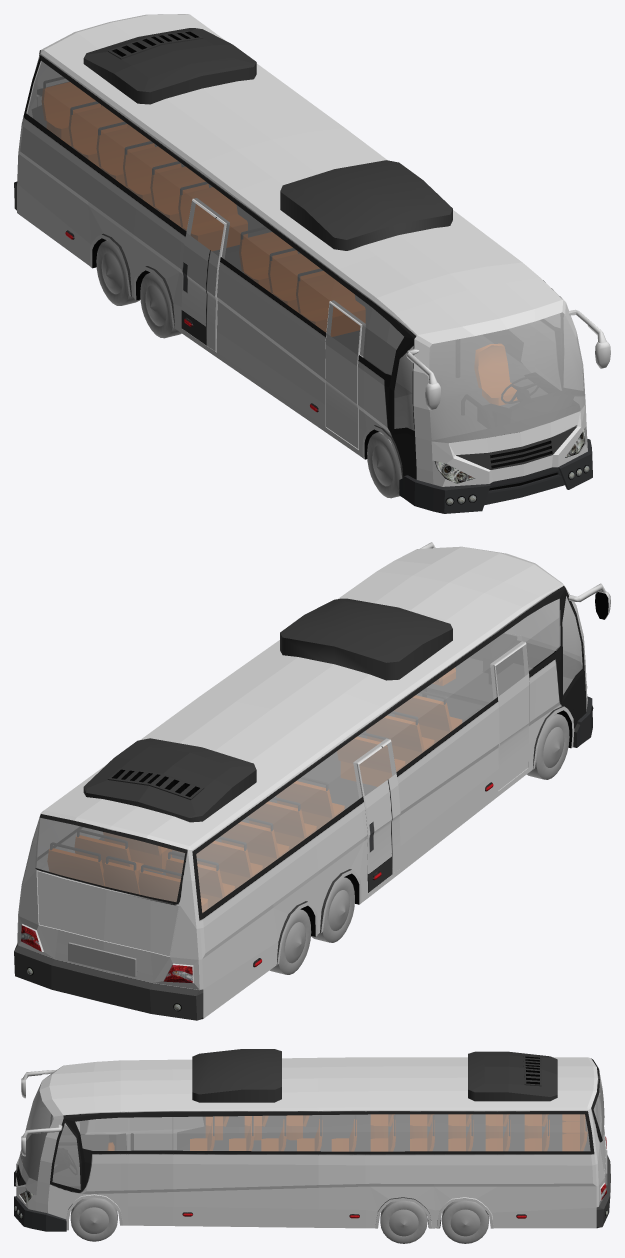
The model's file is Bus_05.fbx.
3 views of the same model, one above another, from view 1: azimuth 30°, elevation 25°; view 2: azimuth 150°, elevation 25°; view 3: azimuth 270°, elevation 25° (orthographic). The views are drawn at different scales.
Visible parts, largest first — view 1: Bus_5body, WindowGlass, Bus_5_Door, FR, RR, CR, DoorGlass; view 2: Bus_5body, WindowGlass, Bus_5_Door, FR, CR, RR, NumberPlate, DoorGlass; view 3: Bus_5body, WindowGlass, FL, CL, RL, Bus_5_Door.
Boxes of the visible parts, x1=… form: Bus_5body: x1=14, y1=14, x2=610, y2=513; WindowGlass: x1=27, y1=61, x2=585, y2=443; Bus_5_Door: x1=325, y1=301, x2=364, y2=449; FR: x1=367, y1=432, x2=400, y2=498; RR: x1=96, y1=240, x2=140, y2=305; CR: x1=140, y1=272, x2=181, y2=338; DoorGlass: x1=326, y1=303, x2=360, y2=354; Bus_5body: x1=14, y1=542, x2=610, y2=1020; WindowGlass: x1=35, y1=596, x2=582, y2=912; Bus_5_Door: x1=491, y1=642, x2=529, y2=790; FR: x1=527, y1=713, x2=569, y2=779; CR: x1=311, y1=877, x2=354, y2=942; RR: x1=270, y1=909, x2=311, y2=974; NumberPlate: x1=68, y1=942, x2=136, y2=976; DoorGlass: x1=495, y1=644, x2=528, y2=695; Bus_5body: x1=14, y1=1049, x2=610, y2=1231; WindowGlass: x1=20, y1=1071, x2=604, y2=1189; FL: x1=70, y1=1197, x2=117, y2=1241; CL: x1=380, y1=1200, x2=427, y2=1243; RL: x1=442, y1=1200, x2=488, y2=1243; Bus_5_Door: x1=129, y1=1117, x2=172, y2=1149.
Size of the model in its own units: 275 by 285 by 1037.
